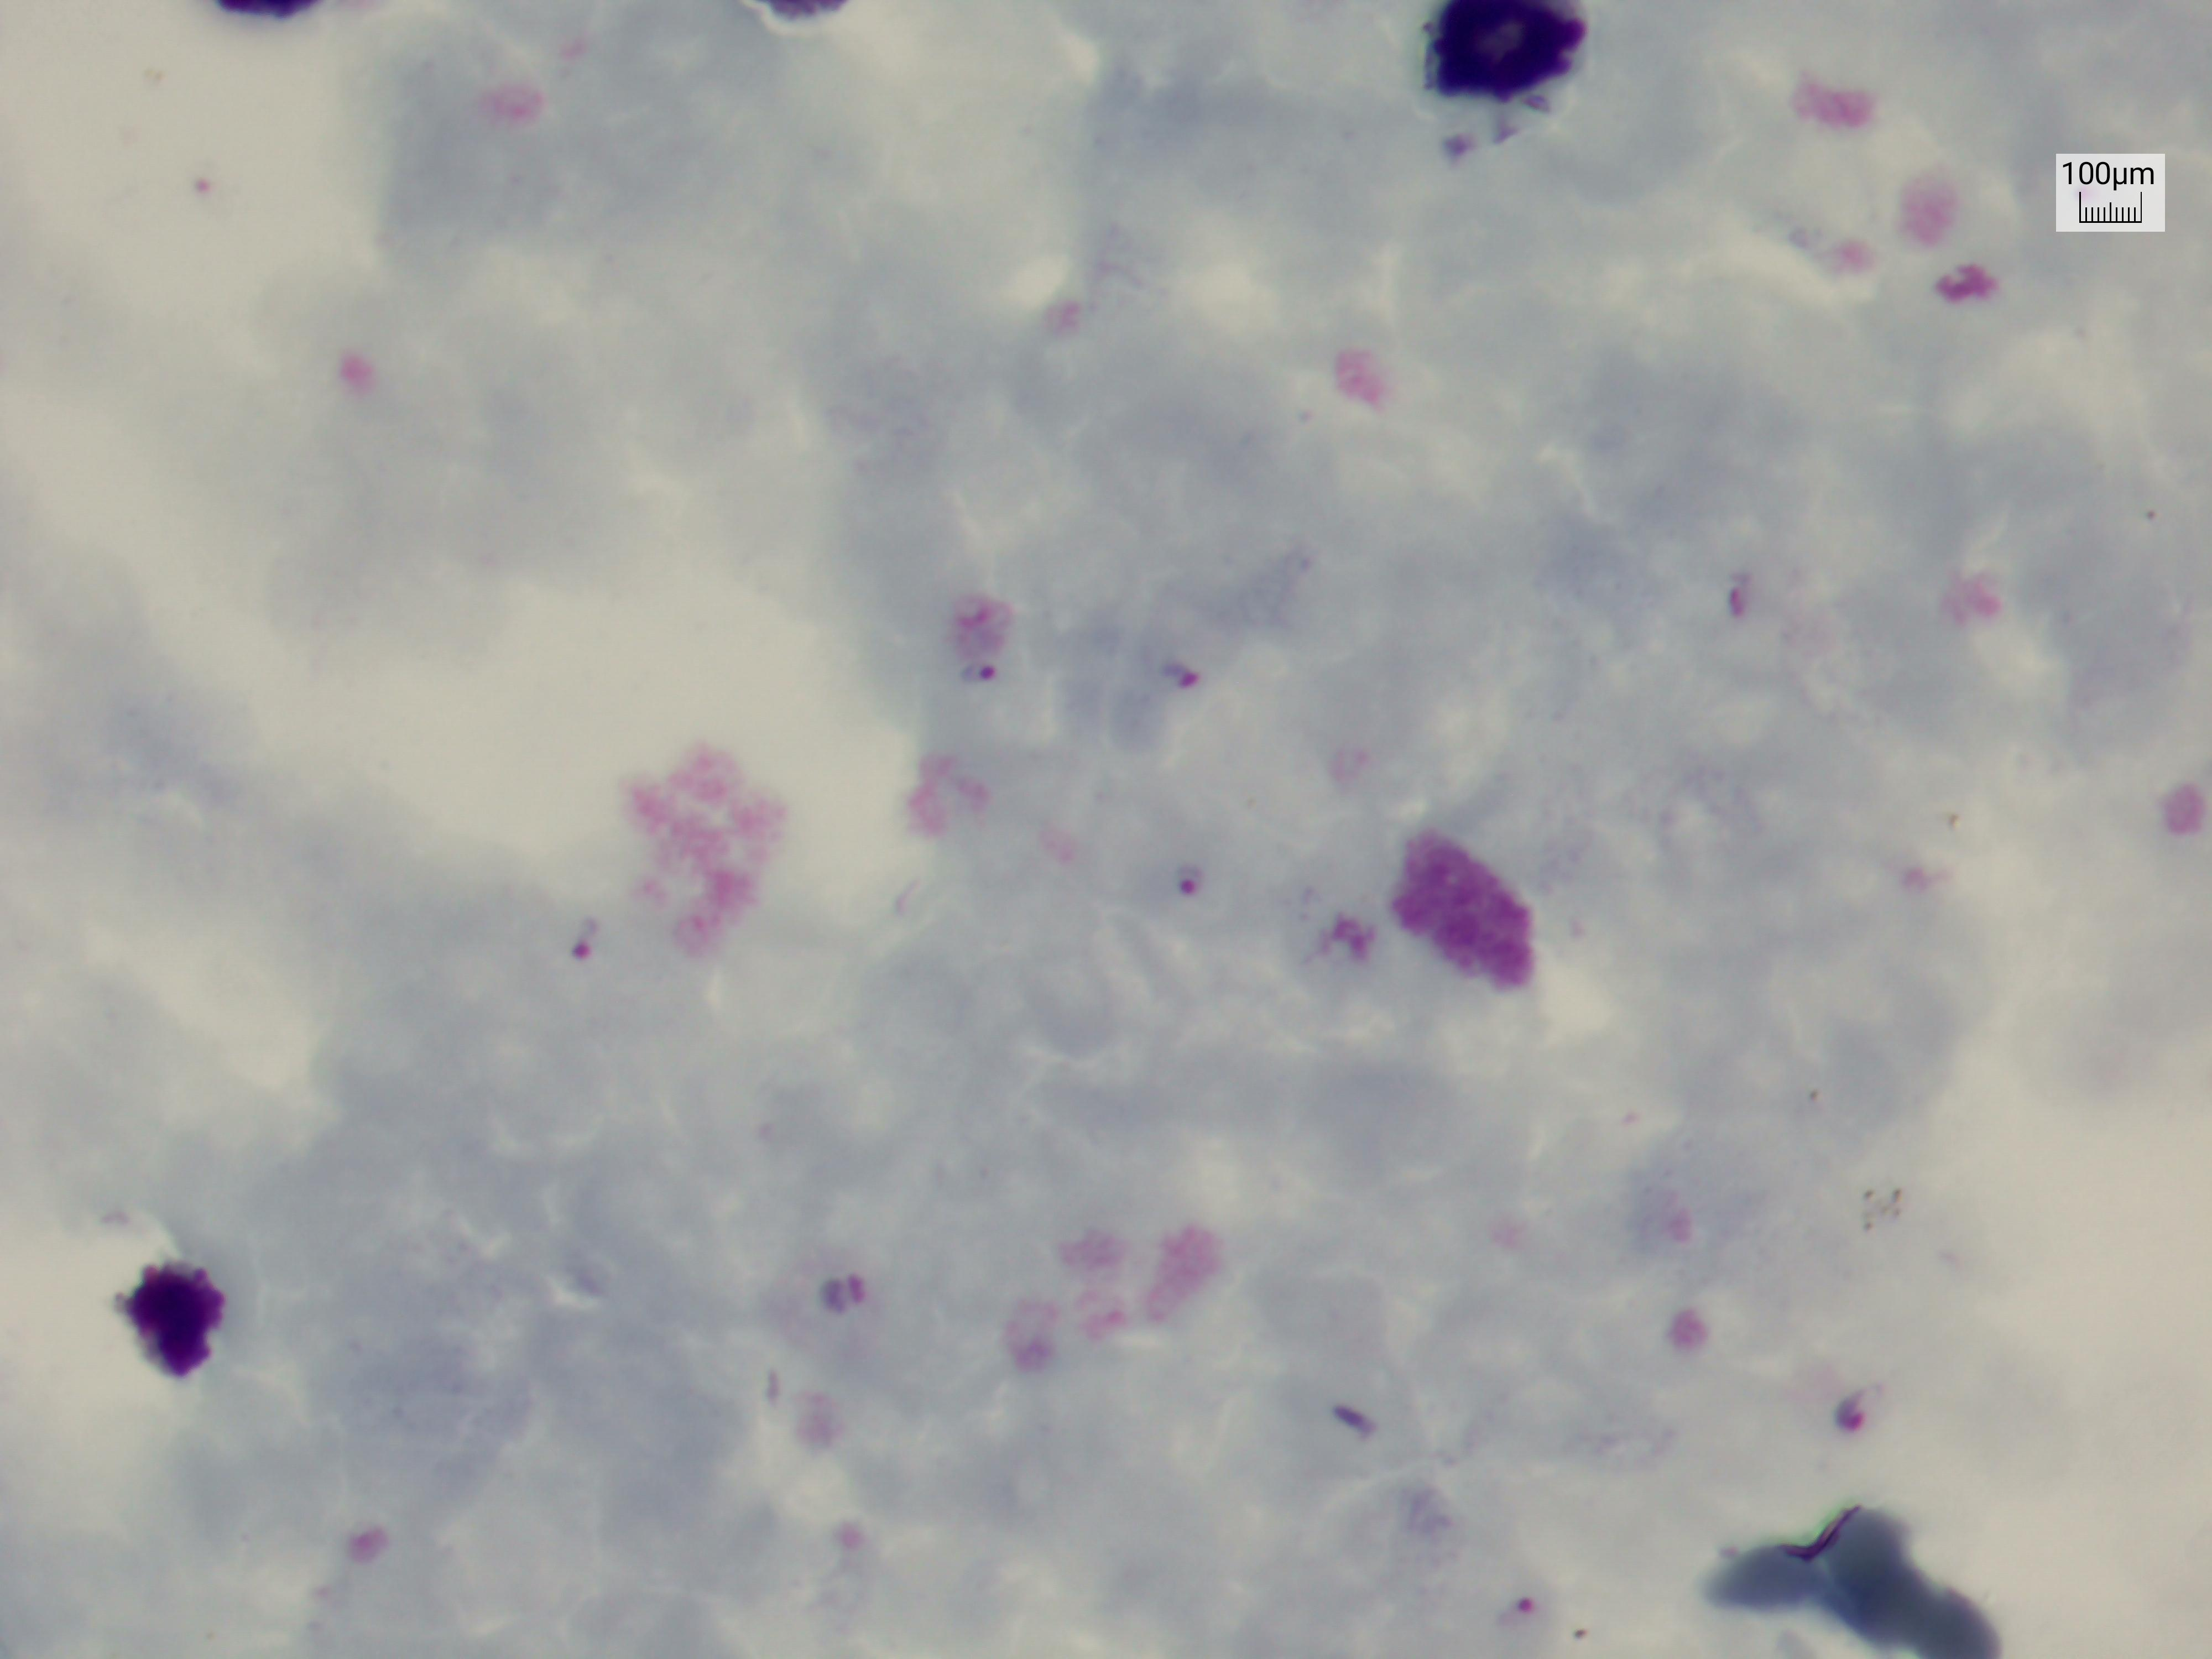p.falciparum: (787, 1225, 880, 1337), (1150, 819, 1231, 927), (941, 620, 1024, 718), (1136, 622, 1230, 706), (547, 896, 632, 985), (1827, 1358, 1898, 1460), (1493, 1558, 1540, 1652)
